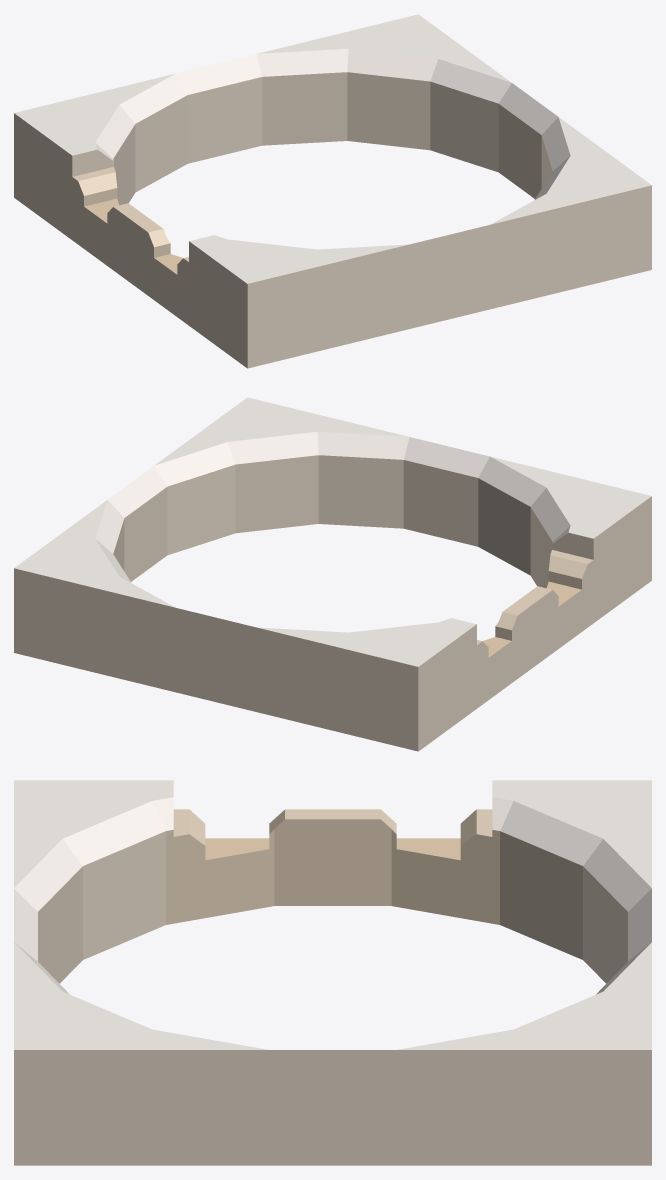
File: Puzzle_Track_Rotating_Housing_End.glb
The picture shows the model from 3 angles, top to bottom: view 1: azimuth 30°, elevation 25°; view 2: azimuth 150°, elevation 25°; view 3: azimuth 270°, elevation 25°; orthographic projection. The views are drawn at different scales.
Visible parts, largest first — view 1: Puzzle_Track_Rotating_Housing_End; view 2: Puzzle_Track_Rotating_Housing_End; view 3: Puzzle_Track_Rotating_Housing_End.
Part boxes in pixels (<box>): Puzzle_Track_Rotating_Housing_End: <box>14,14,651,368</box>; Puzzle_Track_Rotating_Housing_End: <box>14,397,651,751</box>; Puzzle_Track_Rotating_Housing_End: <box>14,780,651,1165</box>.
Bounding box in the file's own units: 1 × 0.2 × 1.
